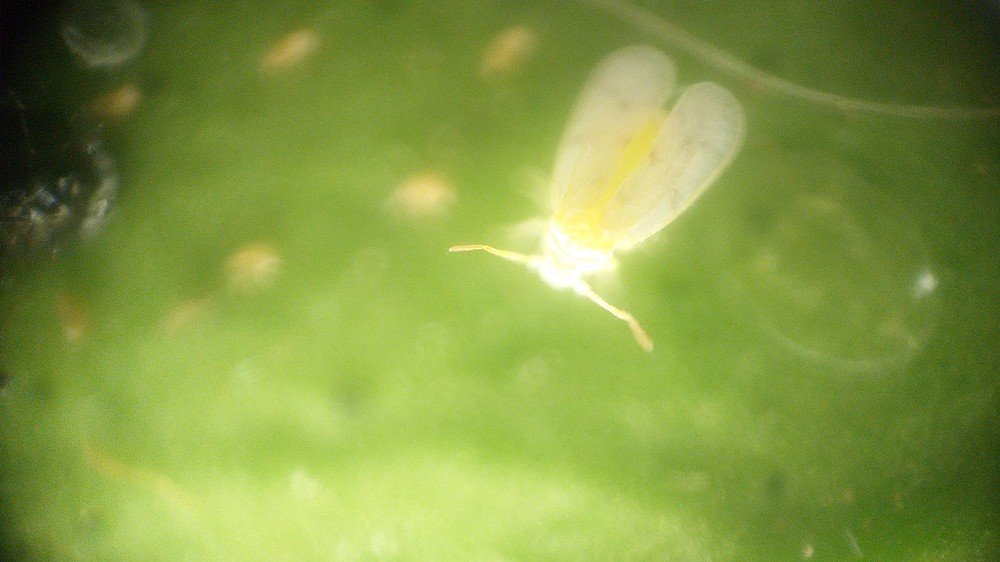Mosca Blanca: (434, 31, 771, 378)
